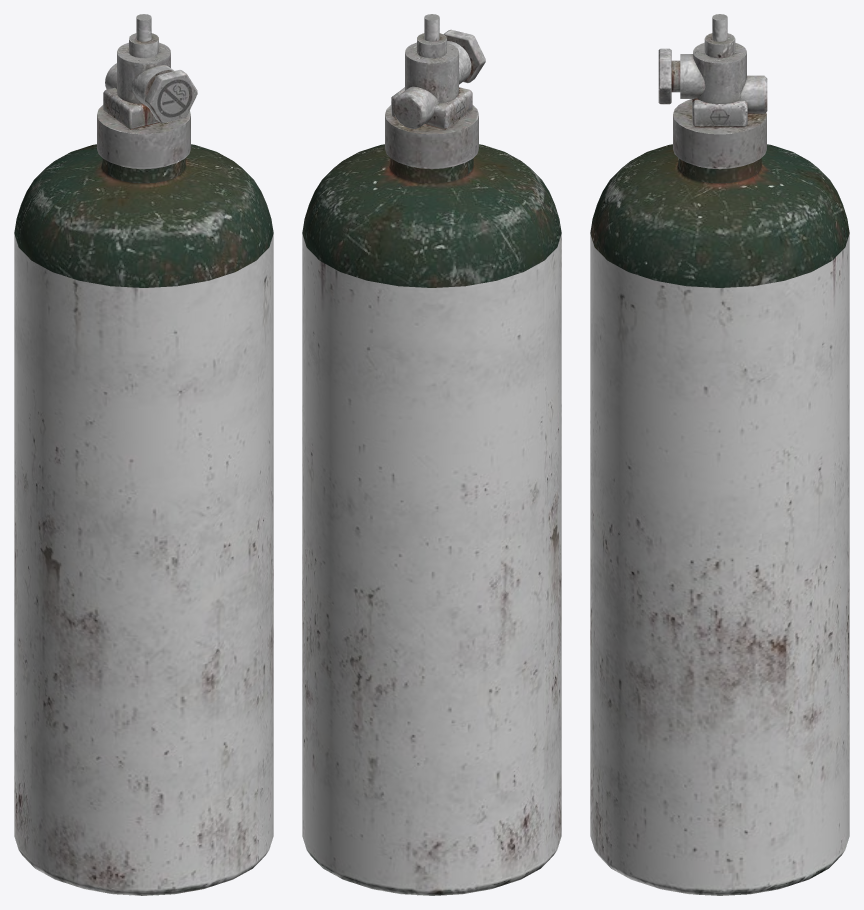
Rendered from SM_Oxygen_Cannister.glb.
3 renders of one model, left to right at view 1: azimuth 30°, elevation 25°; view 2: azimuth 150°, elevation 25°; view 3: azimuth 270°, elevation 25°, orthographic.
Visible parts, largest first — view 1: SM_Oxygen_Cannister; view 2: SM_Oxygen_Cannister; view 3: SM_Oxygen_Cannister.
Boxes of the visible parts, x1,y1,x2,y2 form: SM_Oxygen_Cannister: [14, 14, 273, 895]; SM_Oxygen_Cannister: [302, 14, 561, 895]; SM_Oxygen_Cannister: [590, 14, 849, 895].
Bounding box in the file's own units: 0.169 × 0.5956 × 0.169.
1 material, 1 textured.
